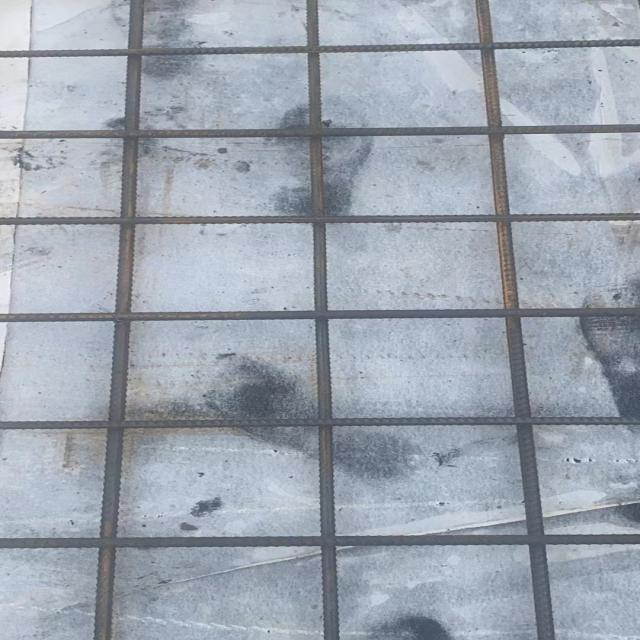ribbed bar: (473, 0, 556, 639), (91, 0, 146, 639), (303, 0, 339, 639), (0, 37, 638, 57), (0, 305, 638, 322), (0, 123, 638, 139), (0, 414, 638, 429), (0, 533, 638, 548), (0, 212, 638, 225)
